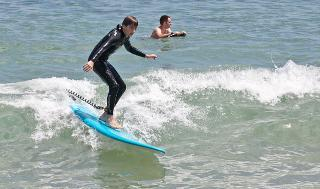person - v3 P: (84, 16, 156, 128), (150, 15, 186, 37)
